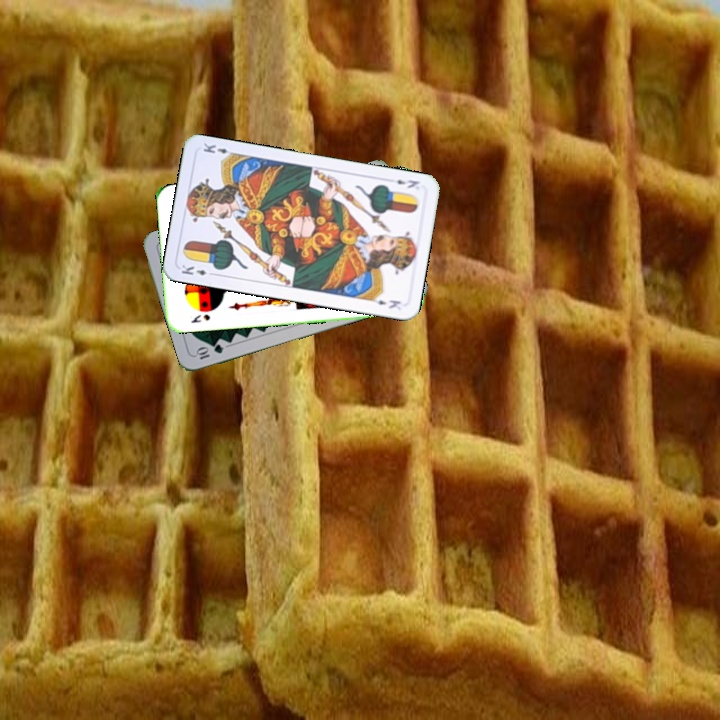EK: (177, 261, 218, 278), (393, 176, 422, 191)
G10: (192, 340, 226, 362)
SK: (187, 310, 213, 325)
